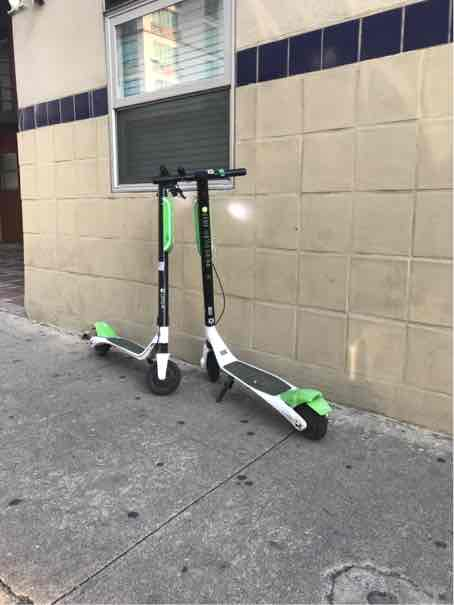scooter: (150, 160, 336, 441), (82, 159, 187, 398)
